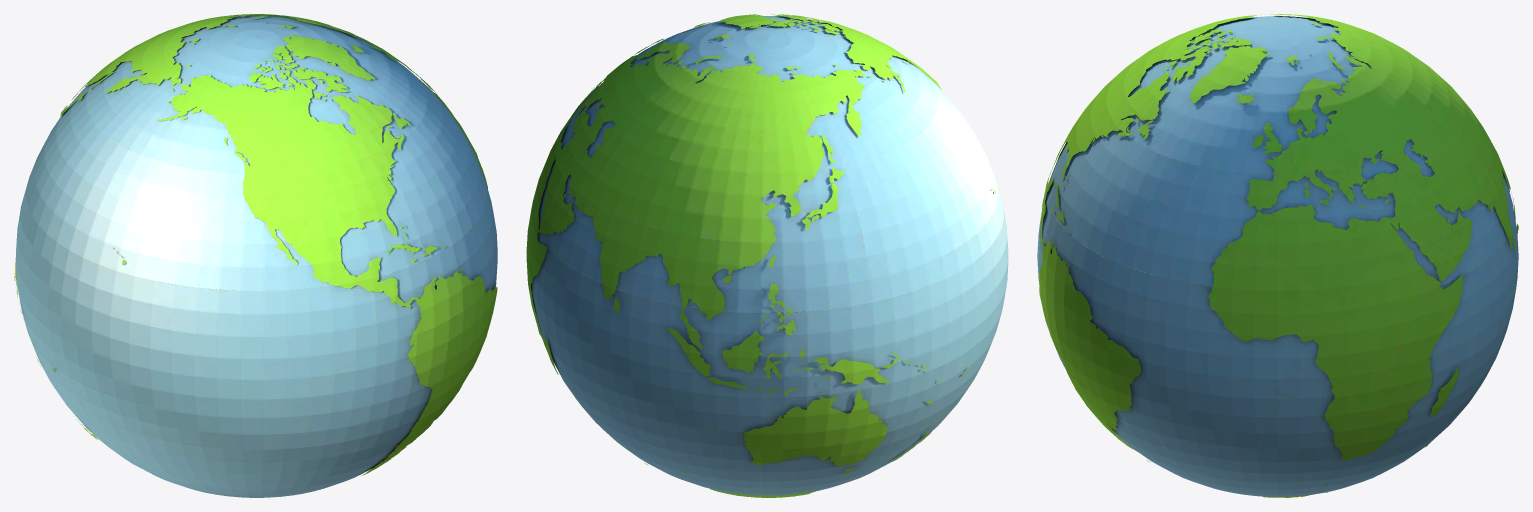
Rendered from earth-transformed.glb.
3 views of the same model, side by side, from view 1: azimuth 30°, elevation 25°; view 2: azimuth 150°, elevation 25°; view 3: azimuth 270°, elevation 25° (orthographic).
Parts seen in each view (by area): view 1: Object_3, Object_2; view 2: Object_3, Object_2; view 3: Object_3, Object_2.
Boxes of the visible parts, x1=… form: Object_3: x1=14, y1=14, x2=497, y2=496; Object_2: x1=15, y1=183, x2=497, y2=497; Object_3: x1=526, y1=14, x2=998, y2=497; Object_2: x1=531, y1=177, x2=1008, y2=495; Object_3: x1=1038, y1=14, x2=1518, y2=497; Object_2: x1=1037, y1=191, x2=1518, y2=496.
Bounding box in the file's own units: 13263 × 13305 × 13237.
2 materials, 2 textured.
